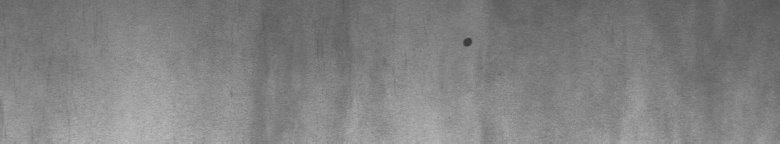fi: (459, 32, 477, 52)
